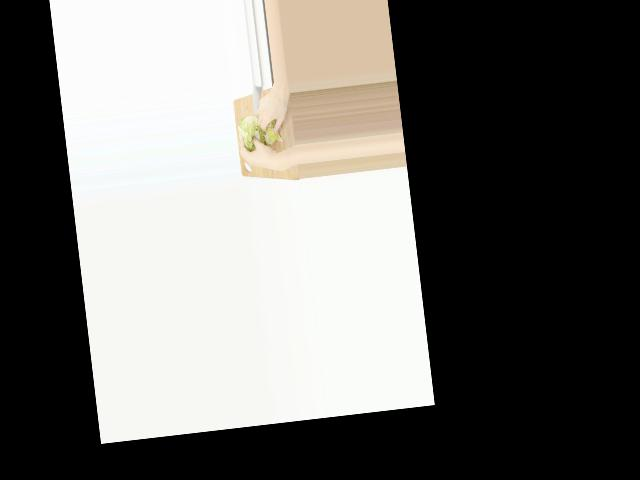lettuce: (237, 114, 264, 150)
